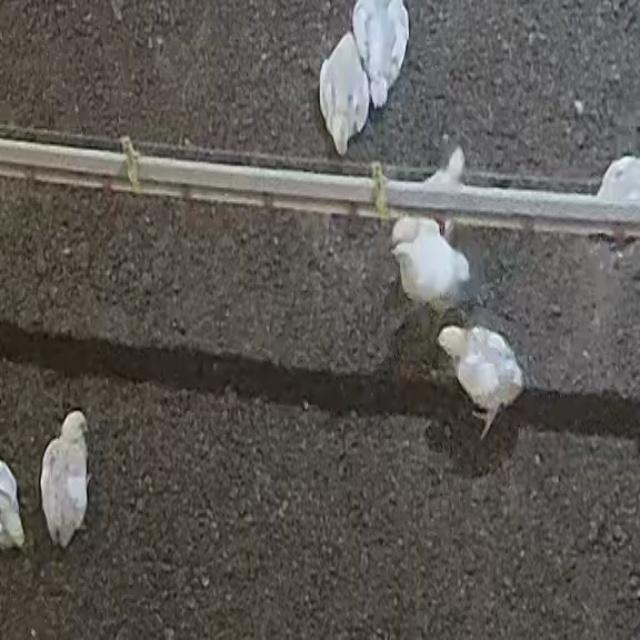chicken: (438, 323, 528, 445), (38, 408, 97, 554), (388, 220, 474, 318), (316, 30, 372, 160), (350, 0, 413, 111)
